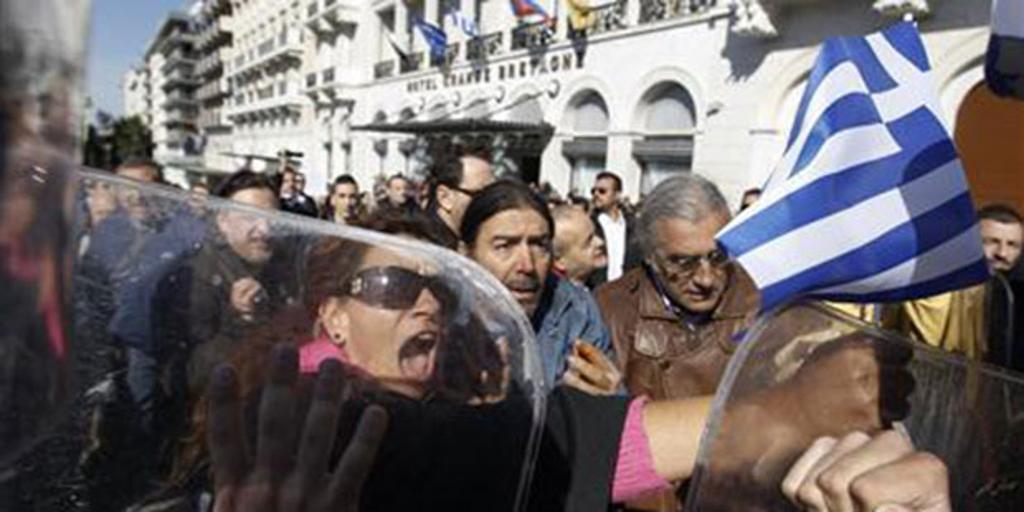face: (345, 252, 457, 398), (475, 212, 553, 321), (653, 218, 733, 312), (451, 164, 498, 240), (229, 193, 279, 264), (557, 213, 609, 270), (978, 219, 1024, 281), (119, 171, 160, 220), (91, 196, 119, 232), (592, 178, 615, 209), (337, 185, 358, 218), (392, 179, 412, 203), (742, 197, 761, 221), (190, 188, 210, 208), (281, 171, 296, 191), (295, 177, 305, 191)
